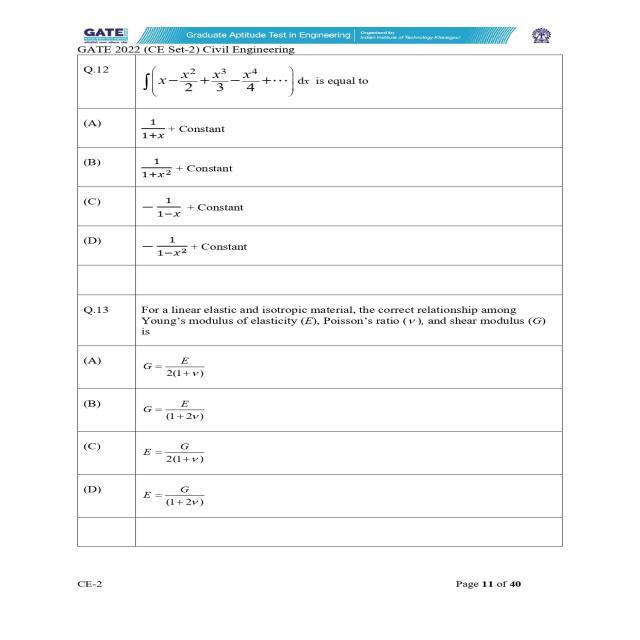Answer_Block: (82, 348, 560, 518), (78, 112, 562, 265)
Question_Answer_Block: (80, 299, 562, 520), (78, 56, 564, 266)
Question_Block: (82, 59, 560, 108), (80, 301, 560, 344)
Question_Paper_Area: (78, 56, 564, 546)
